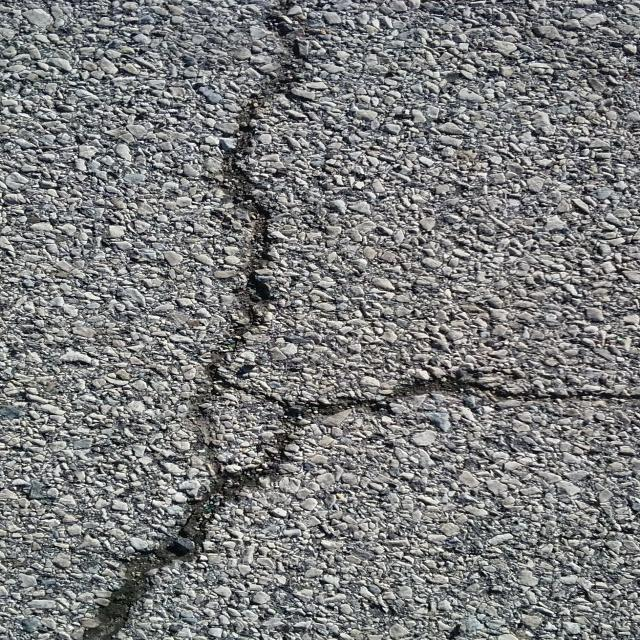Crack: (77, 0, 640, 640)
